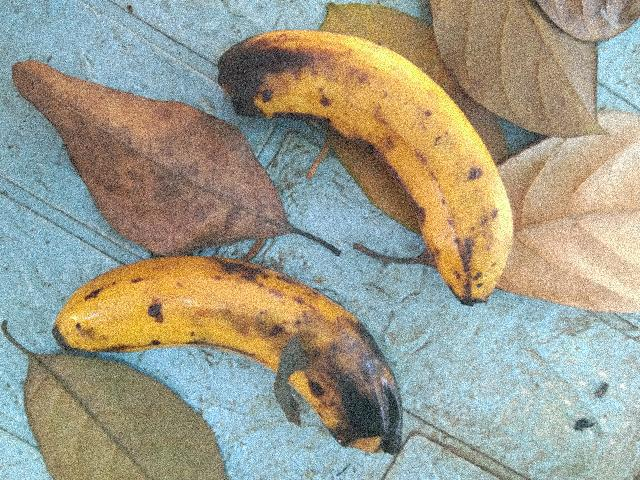overripe: (315, 27, 544, 307), (58, 232, 315, 391)
rotten: (260, 290, 438, 479), (184, 0, 343, 148)
